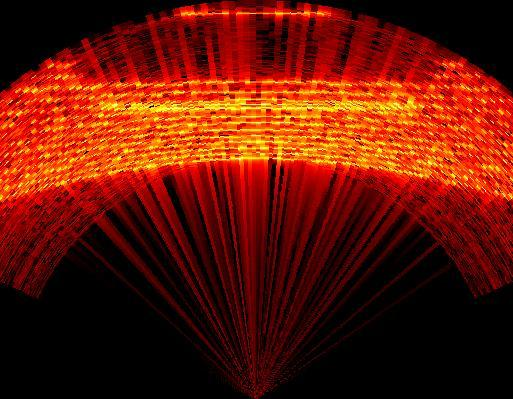pipe: (66, 14, 443, 83)
